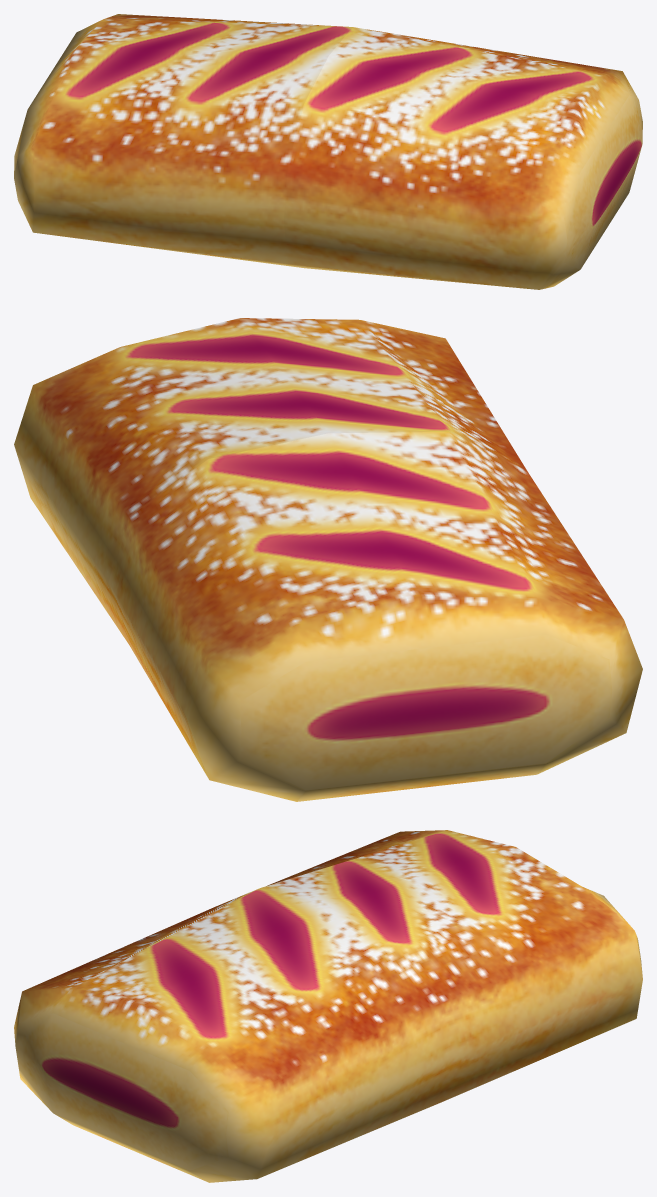
File: 007-Strudel_02.FBX
3 views of the same model, one above another, from view 1: azimuth 30°, elevation 25°; view 2: azimuth 150°, elevation 25°; view 3: azimuth 270°, elevation 25° (orthographic). The views are drawn at different scales.
Parts seen in each view (by area): view 1: 007-Strudel_02; view 2: 007-Strudel_02; view 3: 007-Strudel_02.
Boxes of the visible parts, x1,y1,x2,y2 form: 007-Strudel_02: (14, 14, 642, 289); 007-Strudel_02: (14, 318, 642, 801); 007-Strudel_02: (14, 830, 642, 1182).
Bounding box in the file's own units: 17.98 × 5.6 × 17.98.
